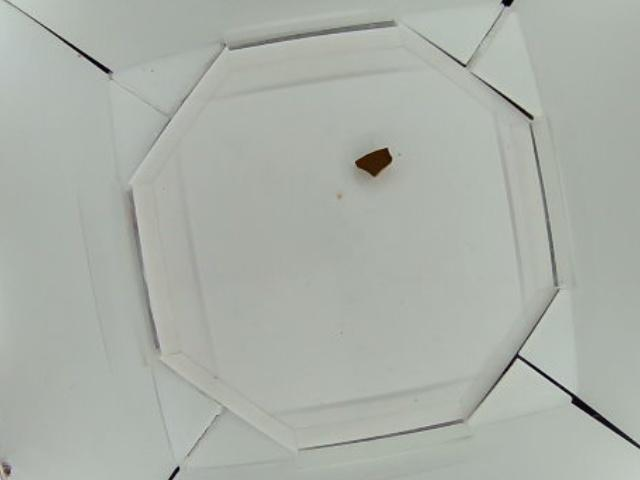China: (356, 147, 393, 179)
